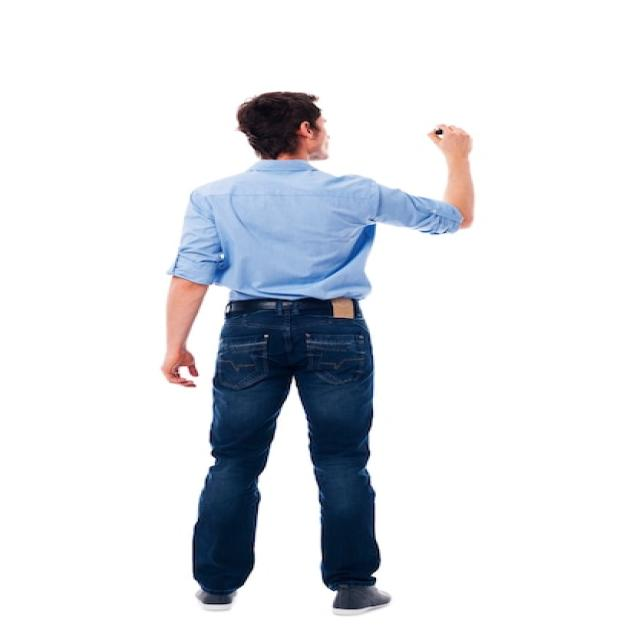Person: (162, 90, 474, 617)
